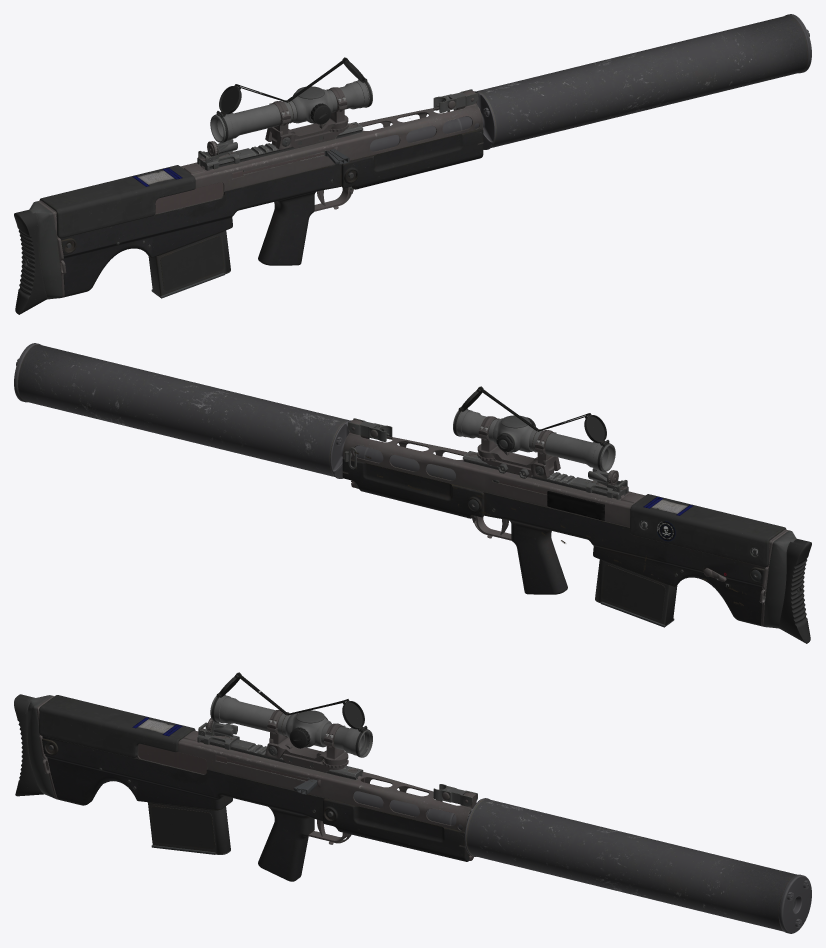
The model's file is vssk.glb.
The picture shows the model from 3 angles, top to bottom: view 1: azimuth 30°, elevation 25°; view 2: azimuth 150°, elevation 25°; view 3: azimuth 330°, elevation 25°; orthographic projection.
Visible parts, largest first — view 1: base_2, base, base_5, base_7, scope_2, mag, base_4, base_6; view 2: base_2, base, base_5, base_7, scope_2, mag, base_3, base_6; view 3: base_2, base, base_5, base_7, scope_2, mag, base_4, base_6.
Boxes of the visible parts, x1,y1,x2,y2 form: base_2: (321,14,811,167); base: (60,128,483,297); base_5: (14,165,352,314); base_7: (39,90,483,220); scope_2: (210,57,372,149); mag: (148,230,230,298); base_4: (155,149,353,213); base_6: (201,89,477,159); base_2: (14,343,504,496); base: (342,457,765,626); base_5: (473,494,811,643); base_7: (342,419,786,549); scope_2: (453,386,615,478); mag: (595,559,677,627); base_3: (354,451,746,605); base_6: (348,418,624,488); base_2: (314,791,811,933); base: (42,736,469,881); base_5: (14,694,346,842); base_7: (39,707,476,847); scope_2: (210,672,372,772); mag: (148,802,230,854); base_4: (138,744,473,860); base_6: (202,718,477,806).
Size of the model in its own units: 1.12 by 0.262 by 0.0903.
9 materials, 8 textured.
